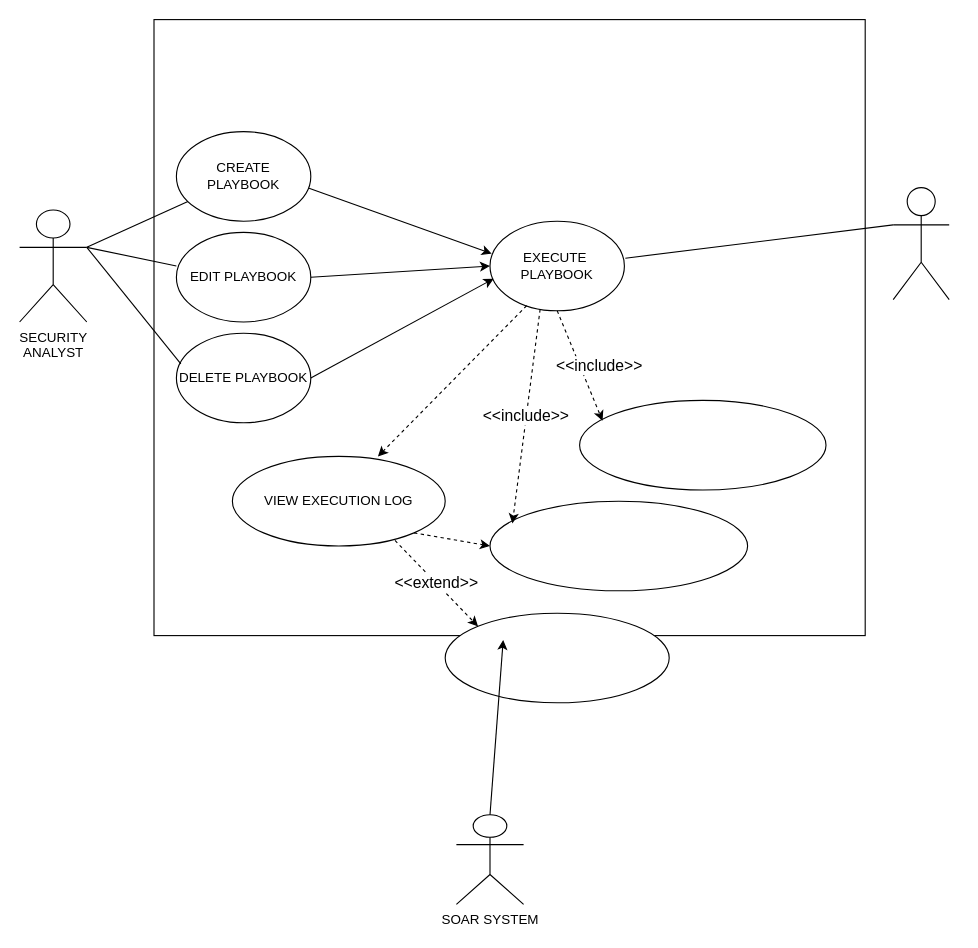
Some shapes in this 978 by 948 pixel diagram are drawn without their labels. The shapes that lost their labels are listed below. From the top down, each one's centre as x and y in pixels, then its label:
At pixel 920 243: "SOC ADMIN".
At pixel 702 444: "SELECT PLAYBOOK BY INCIDENT TYPE".
At pixel 618 545: "SELECT PLAYBOOK BY SEVERITY".
At pixel 556 657: "APPLY CONDITIONAL LOGIC".
